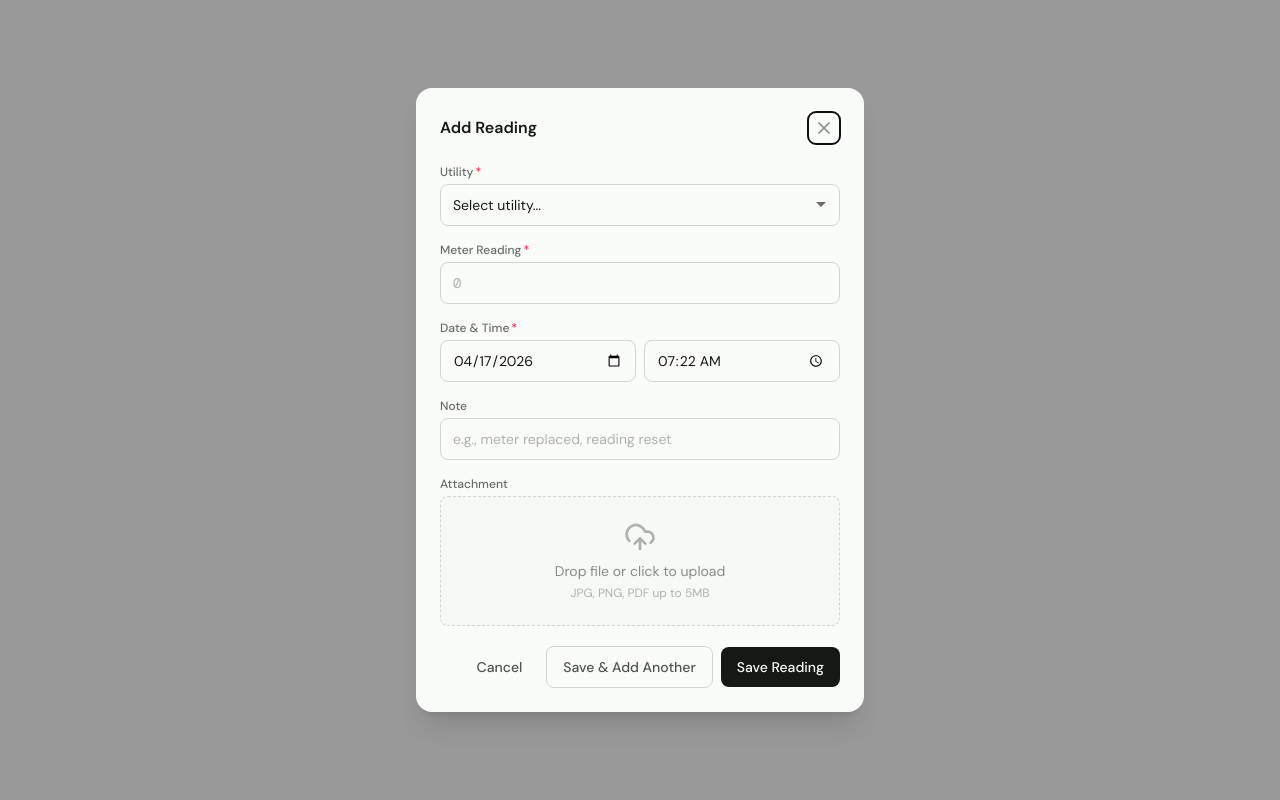
Test case: MeterReadingDialog › Unit suffix › shows unit matching selected utility
Note: Select Electricity (kWh)
Select "Electricity" in the dropdown with id "reading-utility". click: (640, 205)
box: [440, 184, 840, 226]
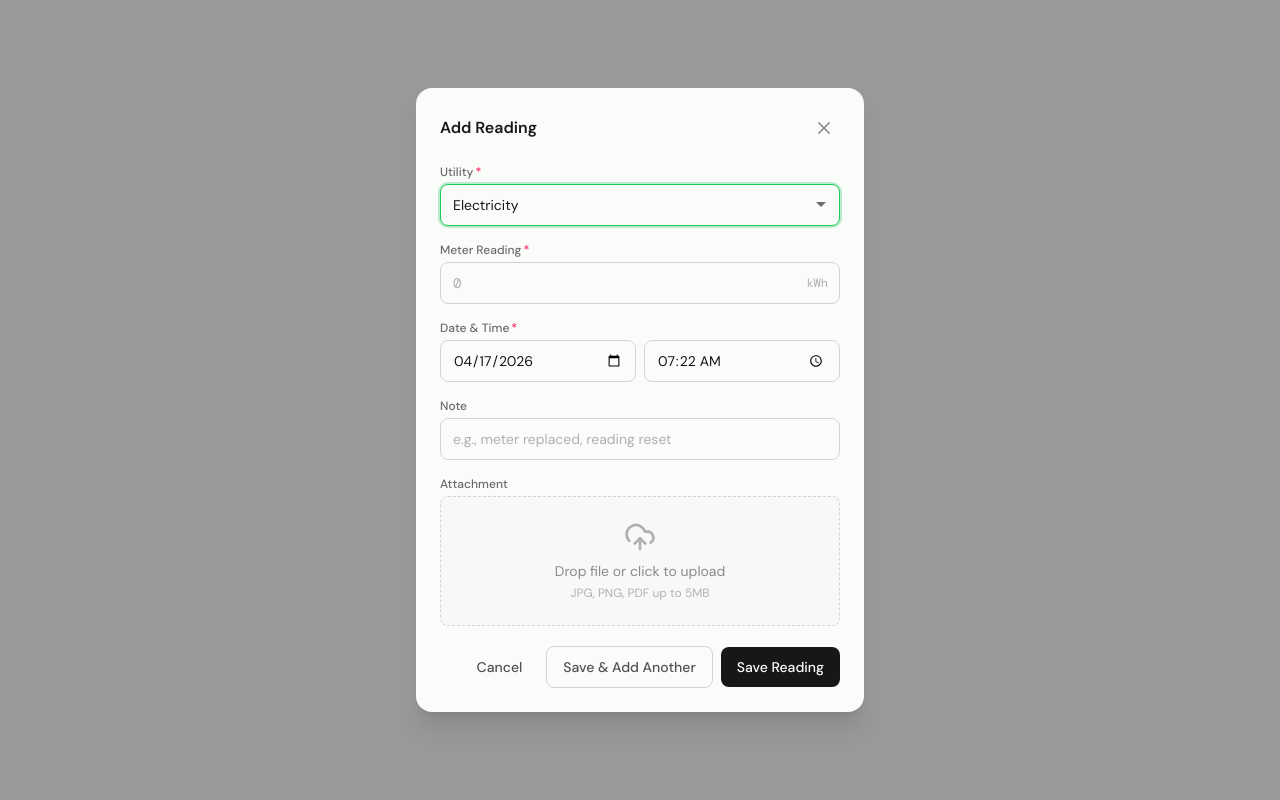
Now the text "kWh" is shown, box [806, 275, 828, 291]
